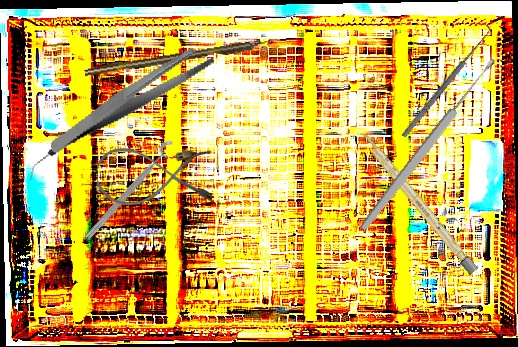Cannula: (97, 148, 212, 205)
Chopper: (7, 59, 194, 182)
Dressing Forceps: (35, 43, 227, 154)
Fixation Ring: (81, 137, 184, 248)
Hook Surgical: (396, 22, 495, 140), (84, 37, 281, 77)
Scalpel Handle: (357, 129, 479, 276)
Surgical Spoon: (356, 54, 501, 235)
